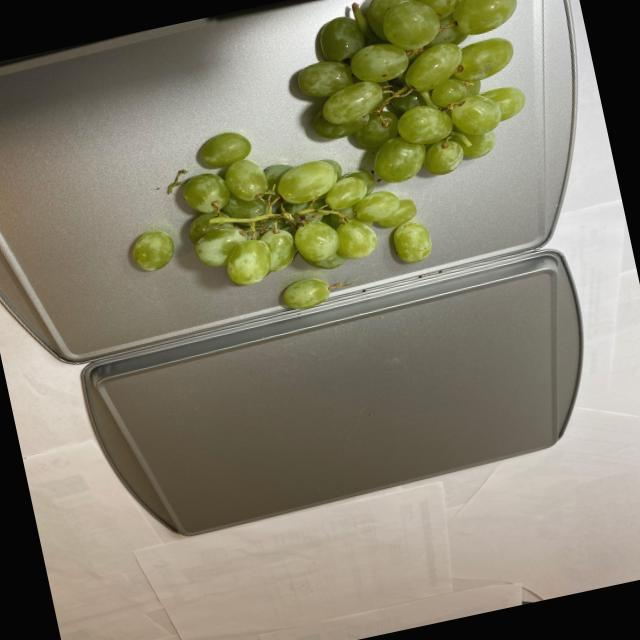grapes: (83, 0, 574, 343)
